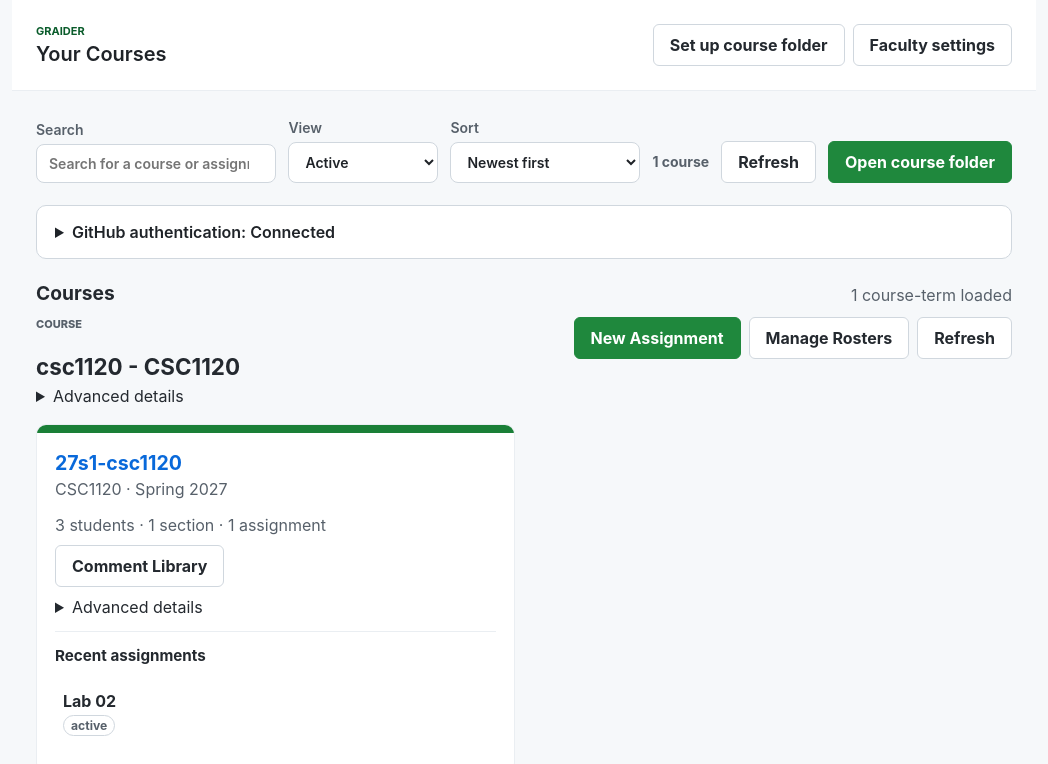
Test: App routing — reached from the dashboard › returns to the dashboard from assignment detail via the Dashboard breadcrumb
The width and height of the screenshot is (1048, 764).
Click the button with aria-label "Open assignment detail for Lab 02" at {"x": 90, "y": 701}, box left=55, top=683, right=496, bottom=744
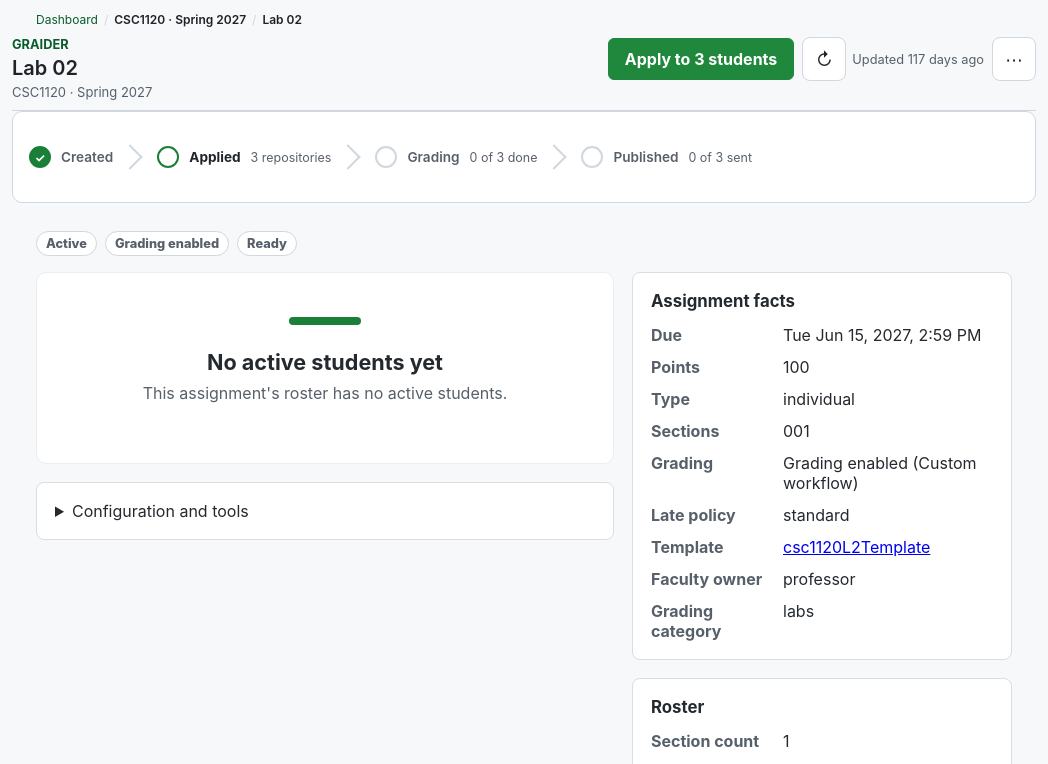
Expected: the heading "Lab 02" is shown, left=12, top=56, right=78, bottom=80
Click the link "Dashboard" at {"x": 67, "y": 20}, box left=36, top=12, right=98, bottom=27
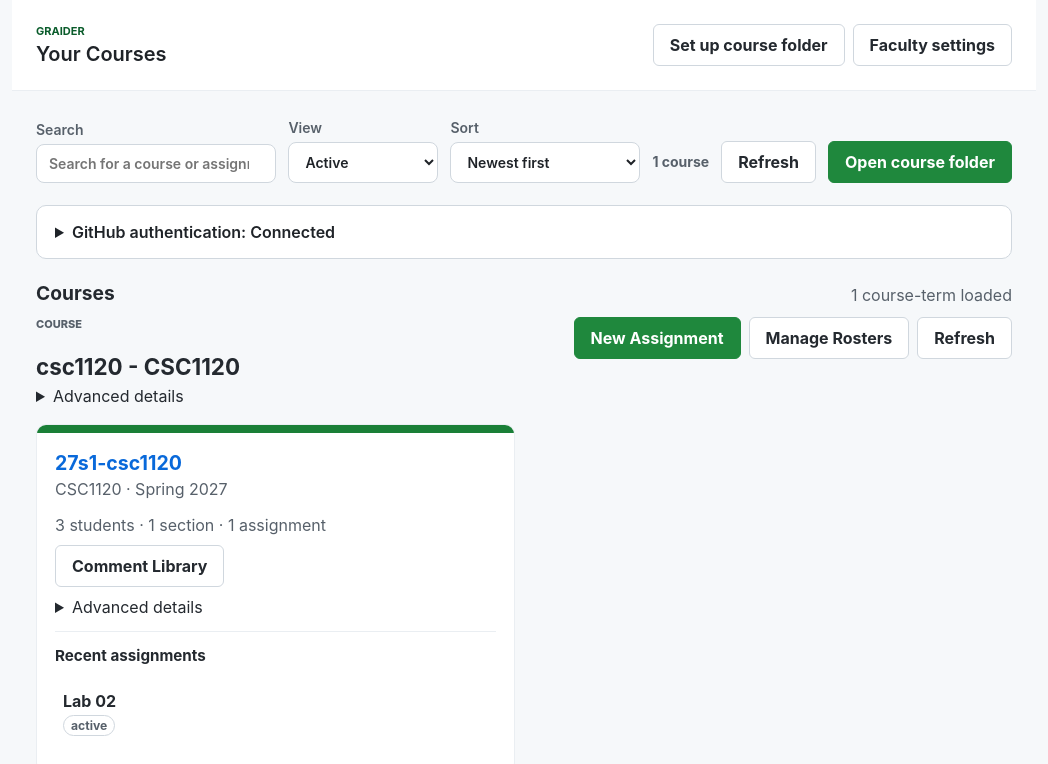
Result: the heading "27s1-csc1120" is shown at left=55, top=451, right=182, bottom=475
